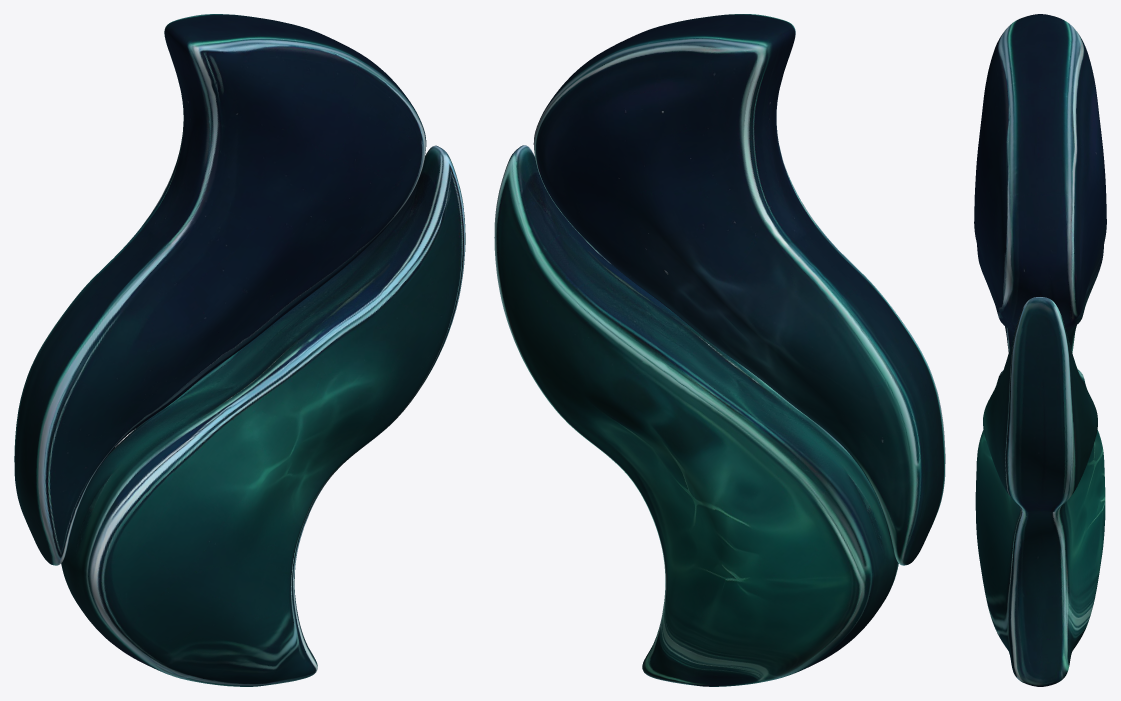
Rendered from opt_Azure_Spiral_0508010416.glb.
3 views of the same model, side by side, from view 1: azimuth 30°, elevation 25°; view 2: azimuth 150°, elevation 25°; view 3: azimuth 270°, elevation 25° (orthographic). The views are drawn at different scales.
Bounding box in the file's own units: 1.27 × 1.9 × 0.3716.
1 material, 1 textured.
